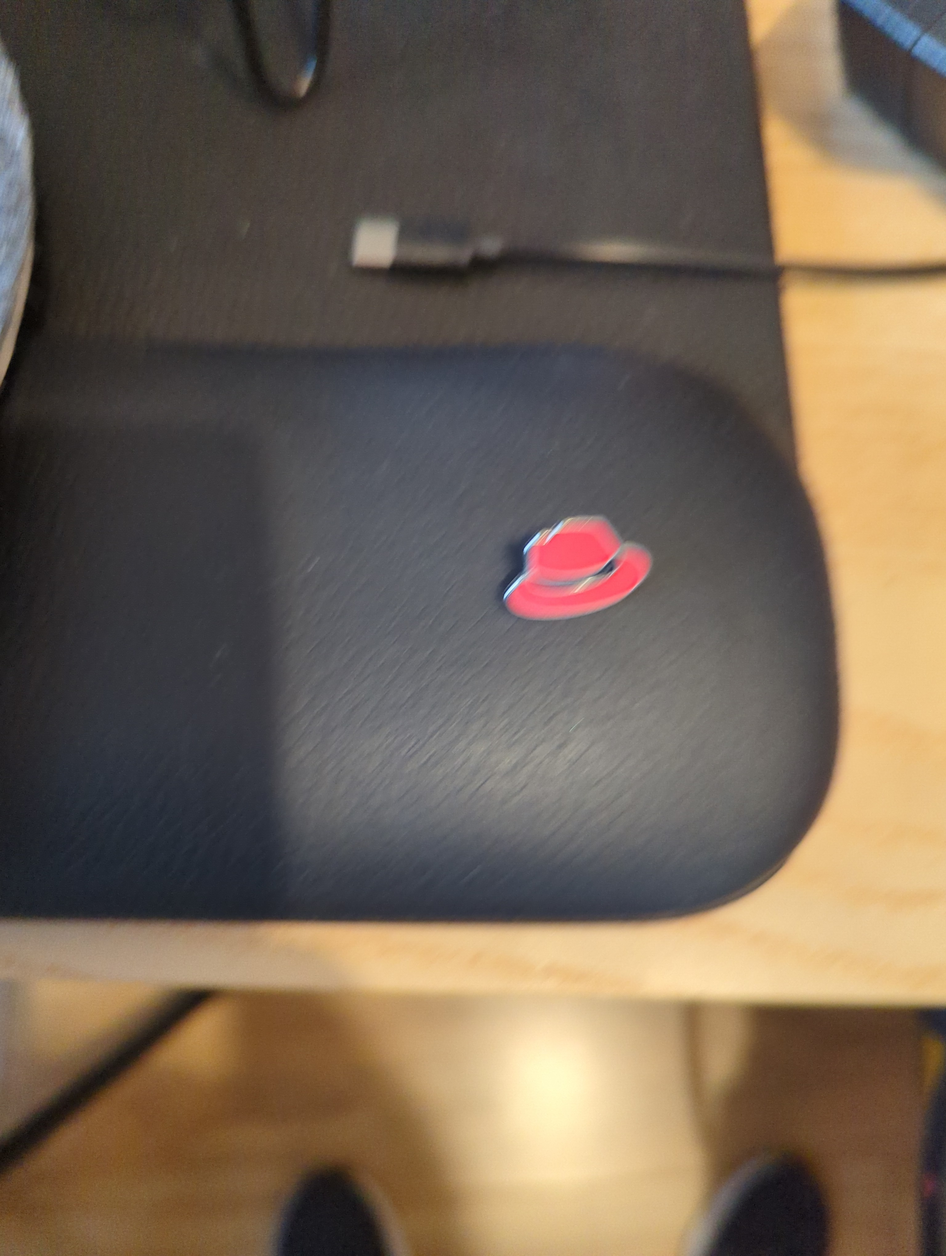Red-Hat: (418, 448, 775, 695)
